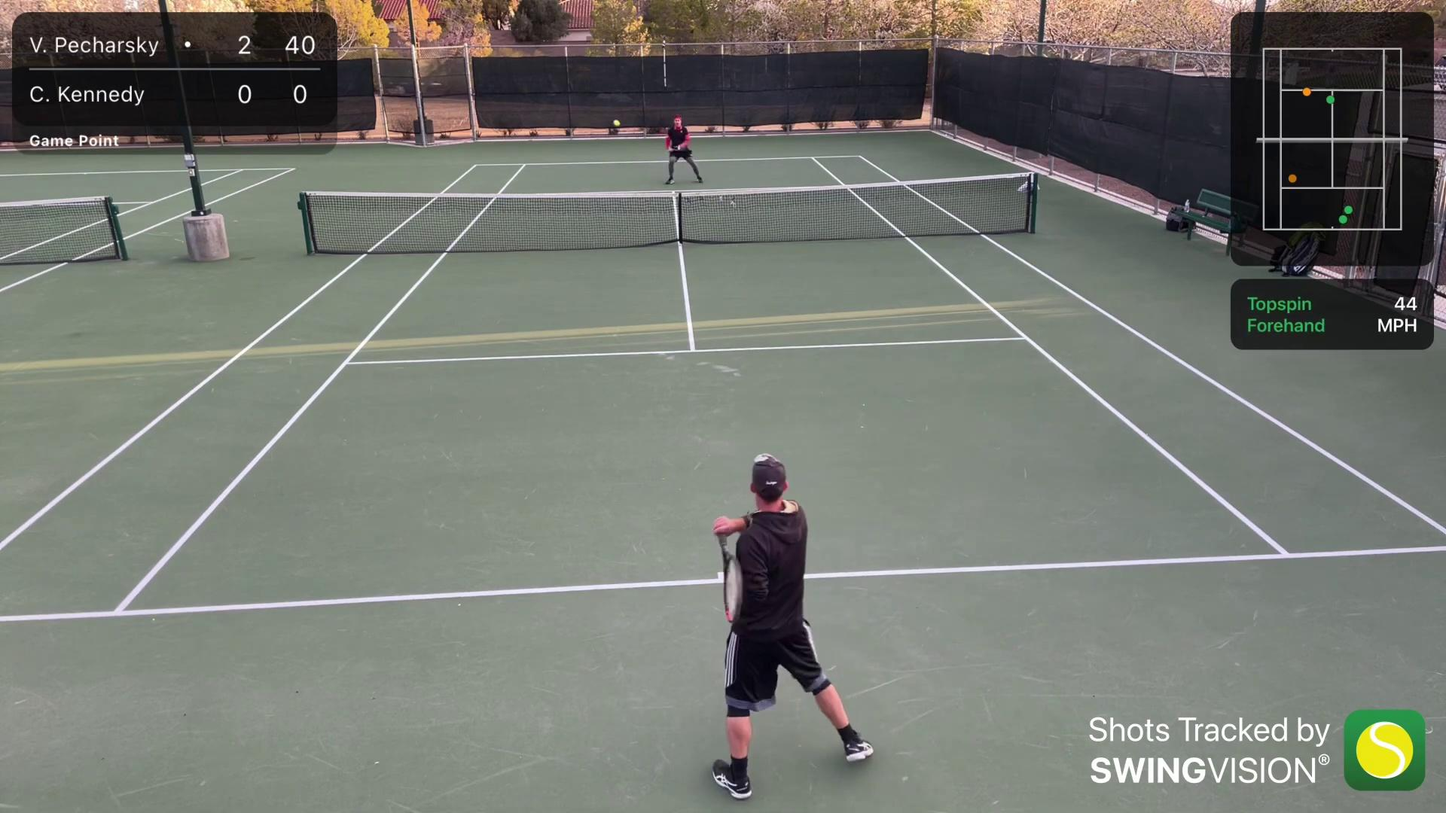ball: (612, 117, 623, 128)
